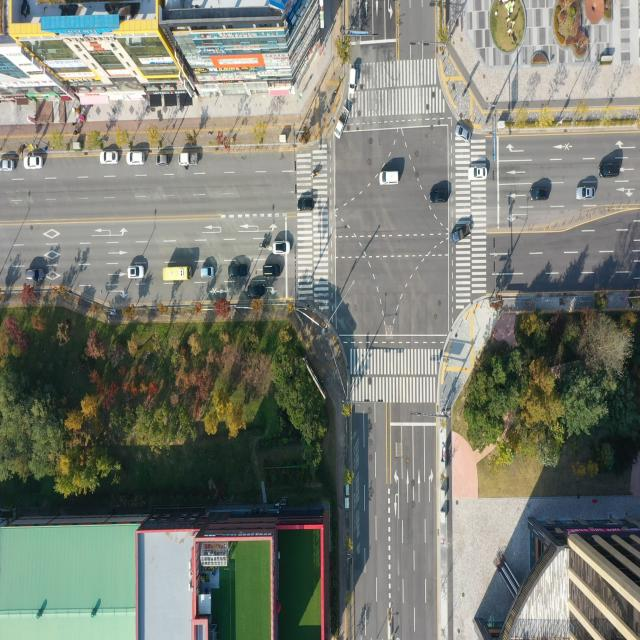car: (347, 66, 357, 100), (431, 188, 452, 204), (380, 171, 400, 186), (100, 149, 120, 164), (456, 126, 472, 144), (600, 164, 620, 178), (26, 157, 44, 172), (128, 150, 146, 165), (26, 270, 45, 284), (469, 167, 488, 180), (530, 187, 549, 200), (230, 267, 249, 280), (248, 284, 265, 298), (576, 186, 594, 199), (130, 266, 146, 280), (264, 266, 282, 278), (0, 160, 16, 173), (274, 242, 291, 254), (298, 200, 314, 212), (201, 268, 216, 280), (158, 155, 172, 167)
small_bus: (162, 267, 191, 284)
small_truck: (334, 102, 350, 140), (450, 222, 472, 244), (179, 151, 201, 167)
